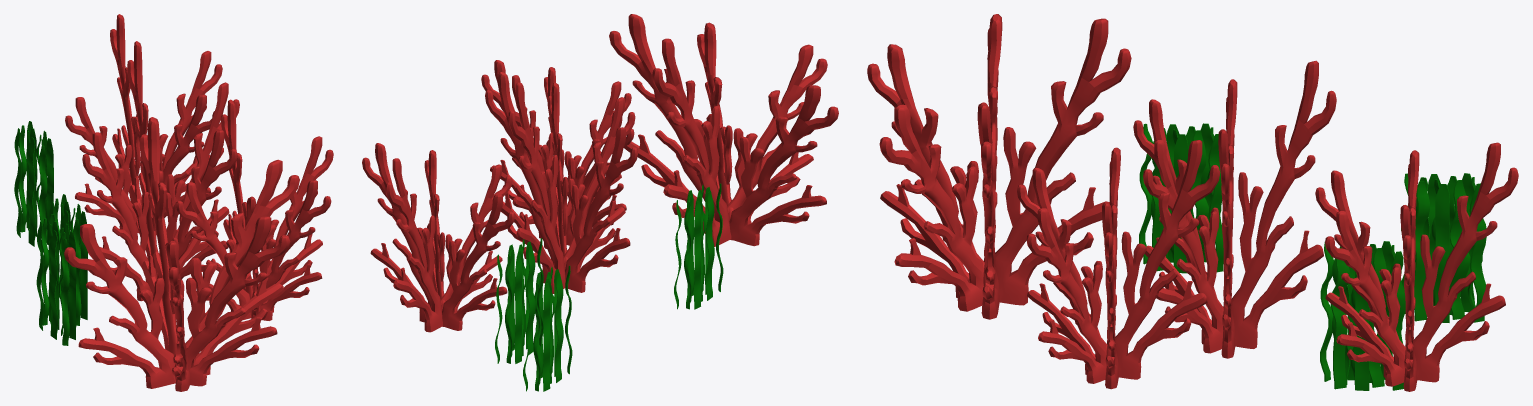
The model's file is coralandplant.glb.
The picture shows the model from 3 angles, left to right: view 1: azimuth 30°, elevation 25°; view 2: azimuth 150°, elevation 25°; view 3: azimuth 270°, elevation 25°; orthographic projection. The views are drawn at different scales.
Visible parts, largest first — view 1: pCylinder23_Redd_0.002, pCylinder23_Redd_0.001, pCylinder23, pCylinder23_Redd_0.003, pCube65_DarkGreen_0.003, pCube65_DarkGreen_0.002, pCube65_DarkGreen_0.001; view 2: pCylinder23_Redd_0.002, pCylinder23_Redd_0.001, pCylinder23_Redd_0.003, pCylinder23, pCube65_DarkGreen_0.002, pCube65_DarkGreen_0.003, pCube65_DarkGreen_0.001; view 3: pCylinder23_Redd_0.002, pCylinder23_Redd_0.001, pCylinder23_Redd_0.003, pCylinder23, pCube65_DarkGreen_0.002, pCube65_DarkGreen_0.001, pCube65_DarkGreen_0.003.
Part boxes in pixels (box(x1,y1,x2,y2)): pCylinder23_Redd_0.002: box(64, 117, 299, 391); pCylinder23_Redd_0.001: box(82, 41, 239, 301); pCylinder23: box(176, 99, 333, 322); pCylinder23_Redd_0.003: box(65, 14, 222, 236); pCube65_DarkGreen_0.003: box(36, 214, 76, 345); pCube65_DarkGreen_0.002: box(14, 121, 53, 252); pCube65_DarkGreen_0.001: box(48, 194, 87, 325); pCylinder23_Redd_0.002: box(609, 14, 838, 246); pCylinder23_Redd_0.001: box(485, 72, 637, 293); pCylinder23_Redd_0.003: box(362, 143, 514, 332); pCylinder23: box(481, 60, 634, 248); pCube65_DarkGreen_0.002: box(495, 238, 543, 363); pCube65_DarkGreen_0.003: box(674, 183, 723, 309); pCube65_DarkGreen_0.001: box(523, 265, 572, 391); pCylinder23_Redd_0.002: box(867, 14, 1131, 319); pCylinder23_Redd_0.001: box(1133, 60, 1336, 358); pCylinder23_Redd_0.003: box(1315, 142, 1518, 391); pCylinder23: box(1017, 140, 1220, 389); pCube65_DarkGreen_0.002: box(1401, 173, 1486, 322); pCube65_DarkGreen_0.001: box(1320, 241, 1405, 390); pCube65_DarkGreen_0.003: box(1139, 123, 1223, 273).
Size of the model in its own units: 32.68 by 26.88 by 44.75.
